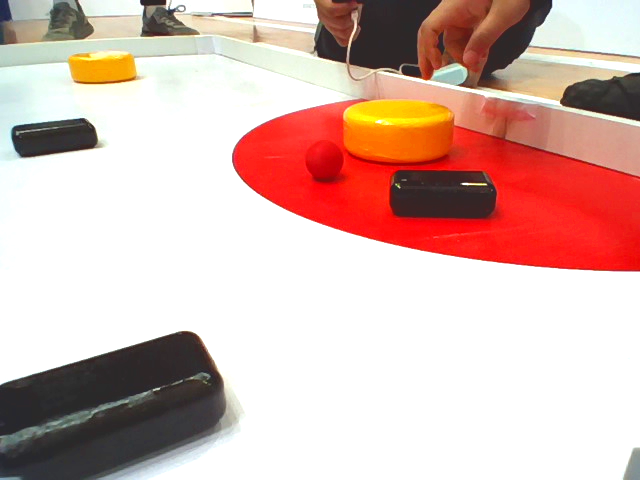black: (1, 330, 235, 474), (388, 165, 498, 219), (10, 119, 101, 151)
red: (304, 139, 344, 177)
yellow: (332, 97, 462, 173), (65, 47, 140, 84)
